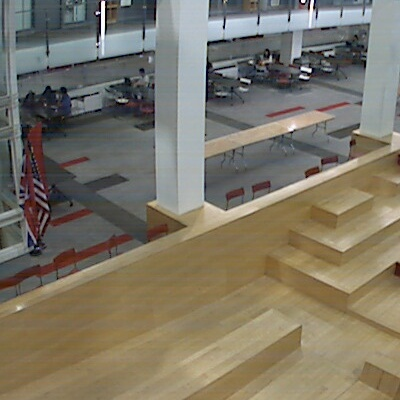head: (57, 84, 70, 97), (138, 67, 148, 77), (44, 84, 53, 93), (262, 48, 271, 57), (352, 34, 359, 41)
